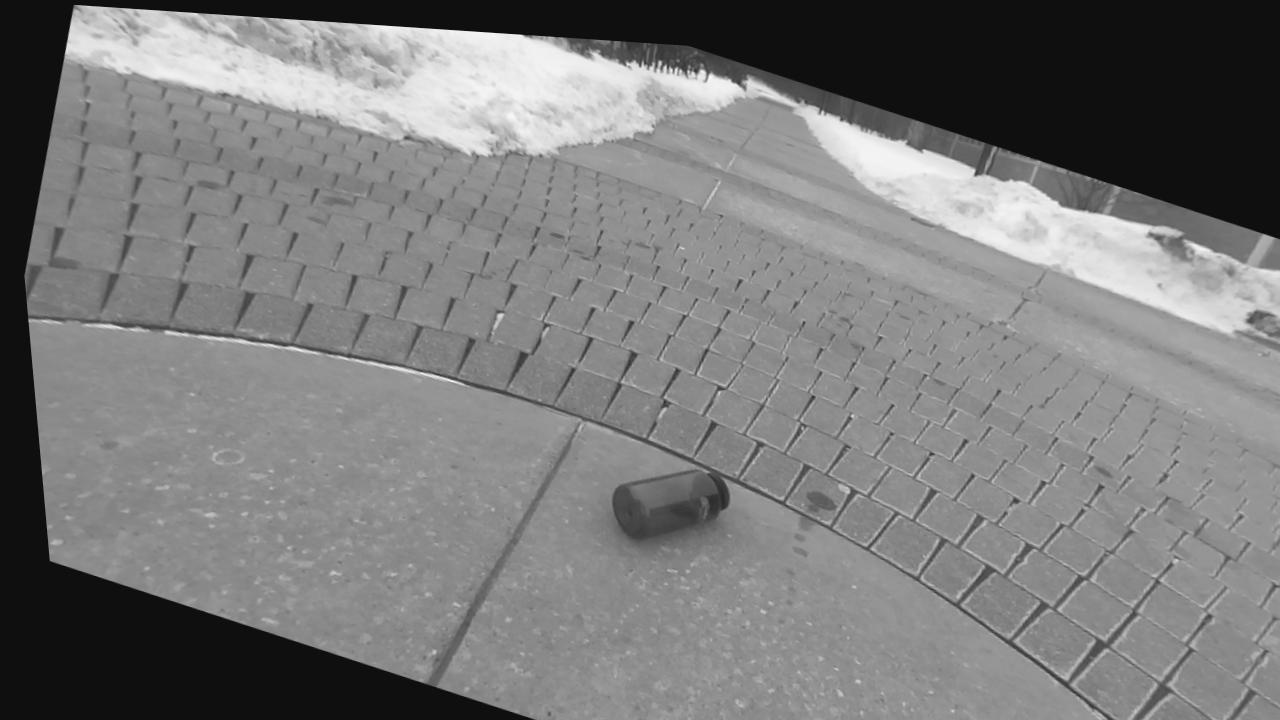bottle: (612, 470, 729, 538)
